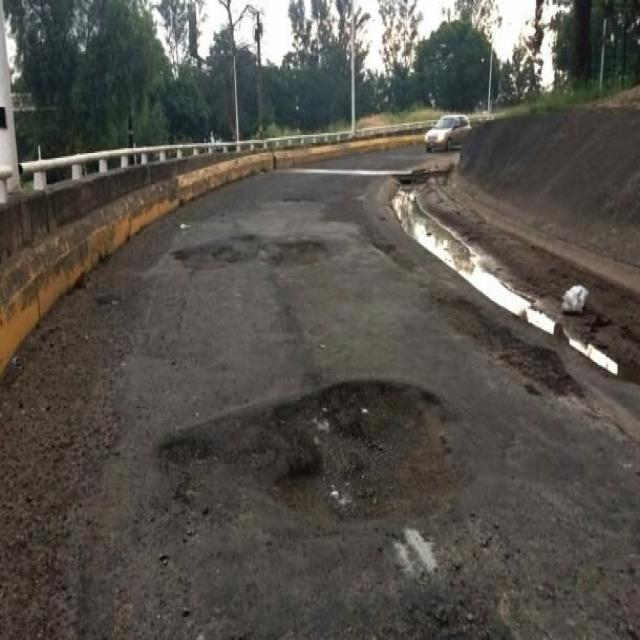Buraco: (144, 376, 478, 545), (422, 287, 594, 404), (166, 232, 334, 281), (367, 240, 423, 277)
